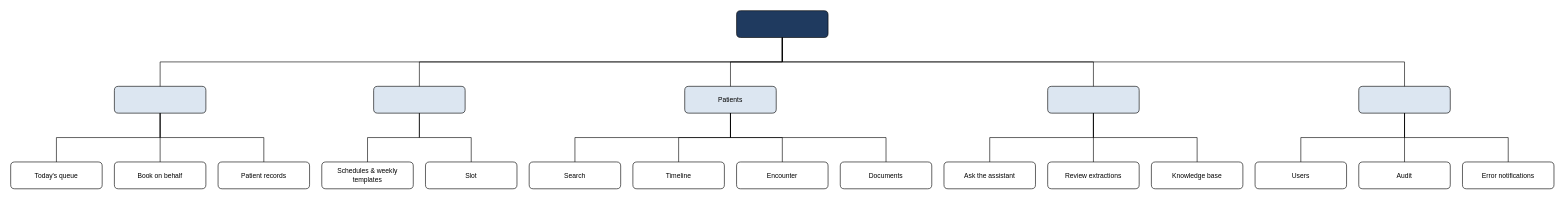
This 1565x199 diagram has some shape labels left out. Each missing label, with the box of its shape:
Administration: (1358, 86, 1450, 113)
AI assistant: (1047, 86, 1139, 113)
Reception: (114, 86, 206, 113)
Schedules: (373, 86, 465, 113)
Staff home: (736, 10, 828, 38)
